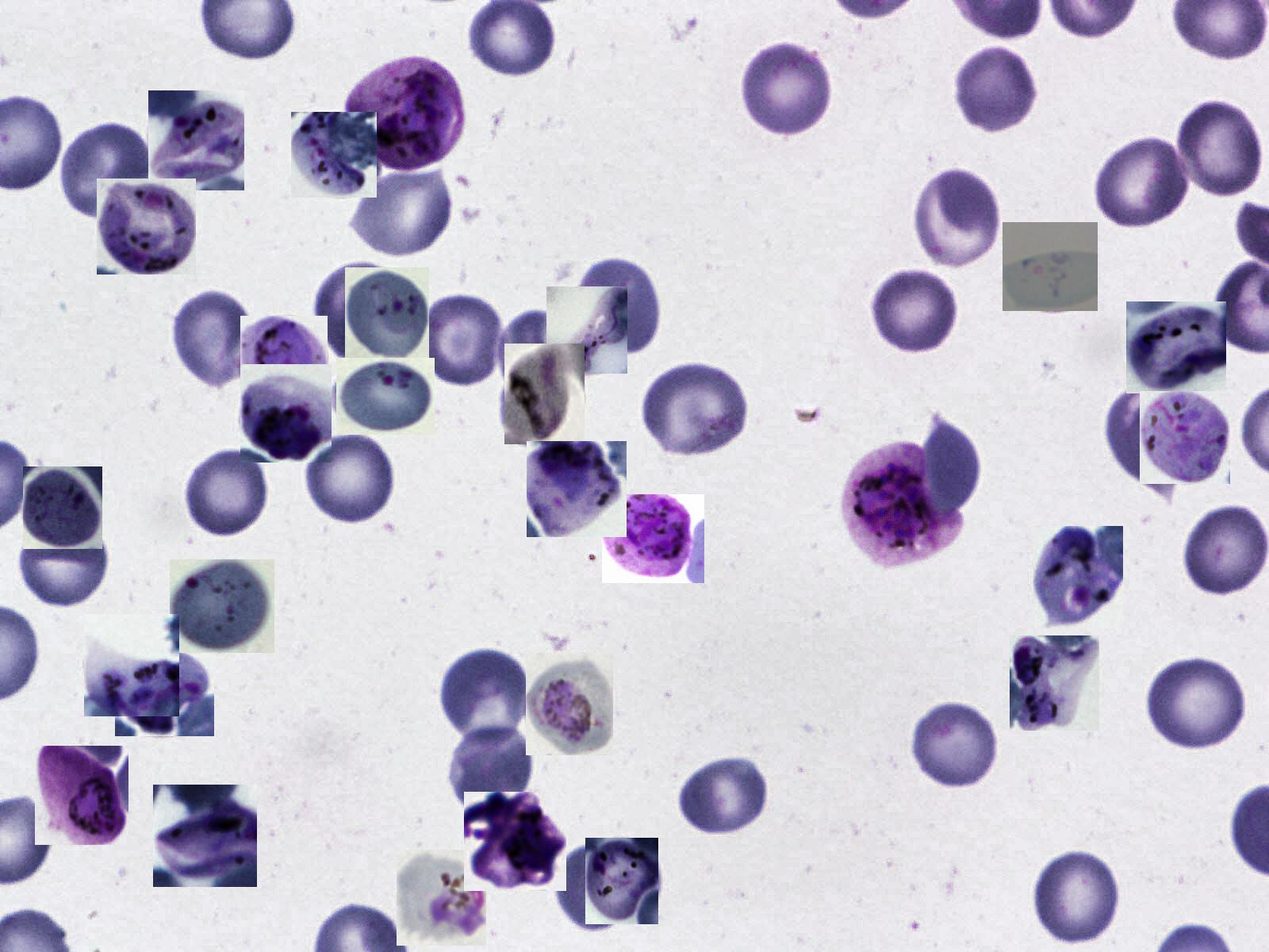Infected: (835, 441, 967, 567), (342, 56, 468, 173), (153, 785, 257, 887), (464, 792, 566, 891), (170, 559, 274, 653), (84, 614, 179, 716), (527, 441, 627, 537), (148, 90, 244, 190), (97, 178, 196, 274), (1126, 301, 1226, 393), (1033, 526, 1123, 628), (36, 746, 128, 845), (240, 364, 332, 463), (603, 494, 705, 583), (526, 653, 613, 755), (397, 850, 486, 946), (1010, 635, 1099, 731), (1003, 222, 1098, 311), (1140, 391, 1230, 484), (240, 316, 328, 410), (115, 653, 214, 736), (504, 344, 585, 444), (345, 267, 429, 363), (336, 359, 435, 436), (291, 112, 377, 198), (546, 287, 627, 374), (23, 466, 102, 549), (585, 838, 658, 924)
Uninfected: (638, 361, 751, 457), (1141, 652, 1248, 752), (435, 647, 535, 751), (1102, 385, 1200, 490), (565, 256, 659, 363), (740, 39, 834, 140), (301, 432, 399, 526), (61, 121, 154, 220), (1032, 846, 1122, 947), (1093, 136, 1190, 228), (167, 287, 258, 385), (350, 171, 453, 257), (497, 310, 581, 414), (1179, 500, 1268, 598), (310, 260, 393, 363), (907, 699, 1003, 786), (916, 168, 999, 268), (17, 524, 110, 611), (416, 294, 502, 388), (184, 451, 274, 539), (1178, 102, 1264, 194), (448, 726, 535, 816), (870, 268, 959, 355), (673, 756, 767, 838), (954, 43, 1038, 133), (554, 843, 632, 932), (918, 420, 982, 522)
